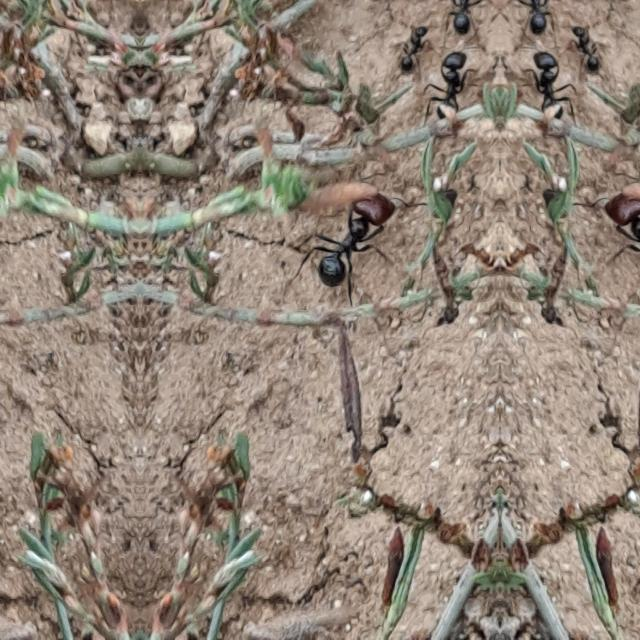Messor: (303, 176, 412, 286), (588, 176, 640, 286), (424, 39, 478, 132), (522, 39, 576, 132)
